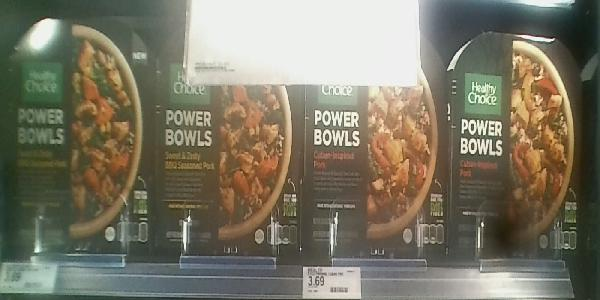pizza1: (3, 15, 157, 258), (297, 28, 452, 259), (158, 57, 300, 263), (453, 33, 578, 256)
